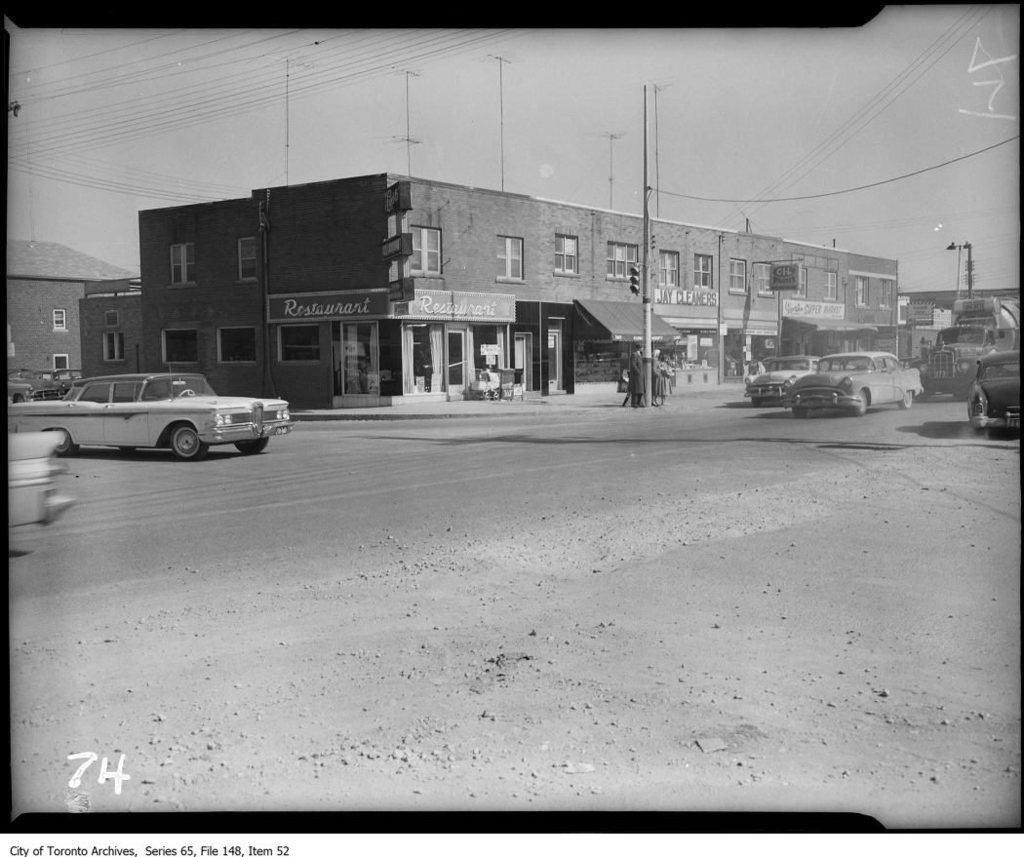Car: (27, 357, 280, 462), (799, 353, 923, 413), (971, 349, 1023, 428), (748, 354, 820, 410)
